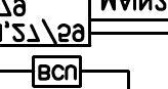BCU: (31, 55, 83, 89)
